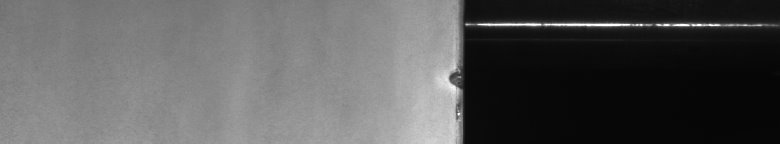hb: (437, 65, 452, 92)
